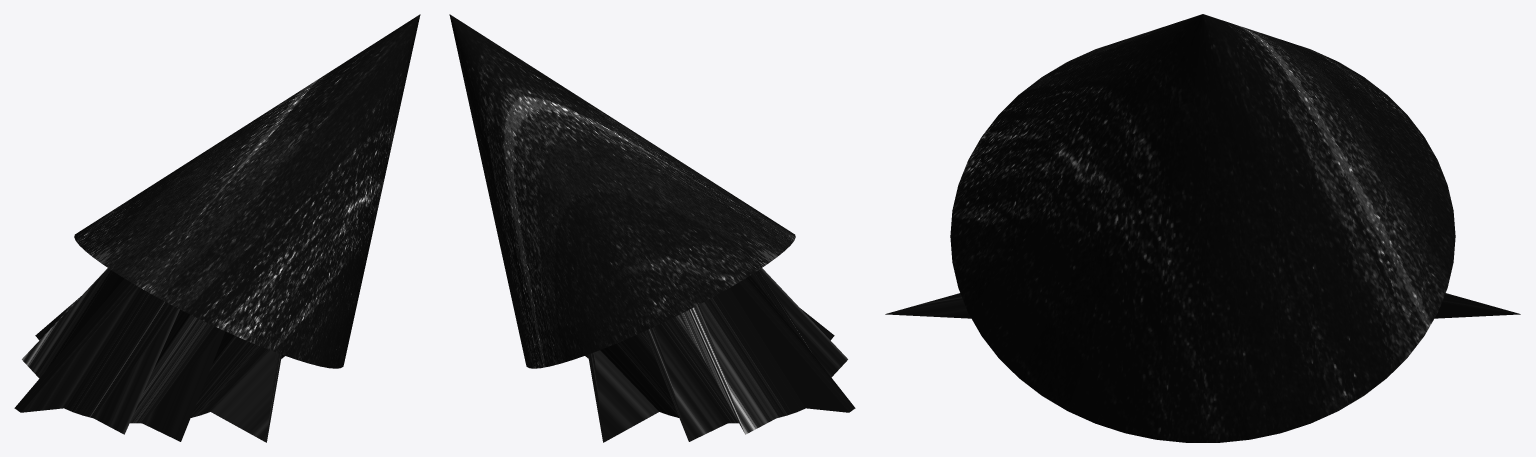
Rendered from Conch.fbx.
3 renders of one model, left to right at view 1: azimuth 30°, elevation 25°; view 2: azimuth 150°, elevation 25°; view 3: azimuth 270°, elevation 25°, orthographic. The views are drawn at different scales.
Parts seen in each view (by area): view 1: 소라고둥; view 2: 소라고둥; view 3: 소라고둥.
Boxes of the visible parts, x1,y1,x2,y2 form: 소라고둥: (14, 14, 420, 442); 소라고둥: (449, 14, 855, 442); 소라고둥: (885, 14, 1520, 442).
Size of the model in its own units: 311 by 223 by 252.
Materials: 1 (1 with a texture image).
